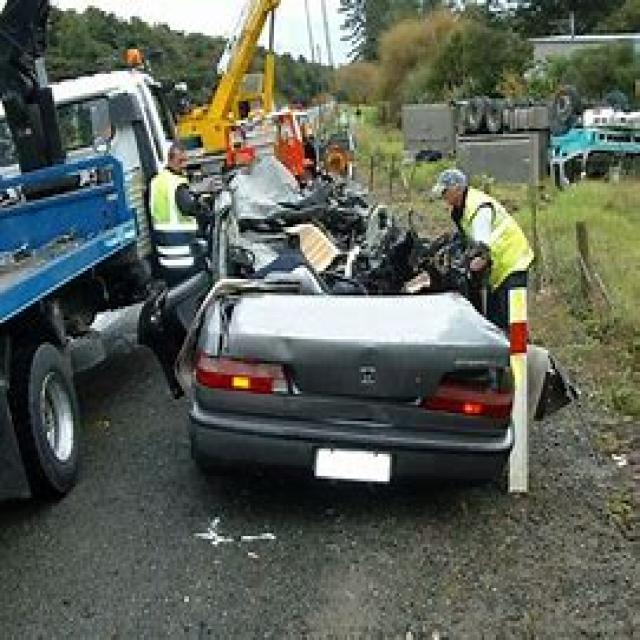Accident: (95, 97, 602, 534)
